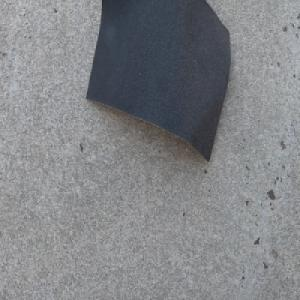PaintChip: (86, 0, 230, 166)
